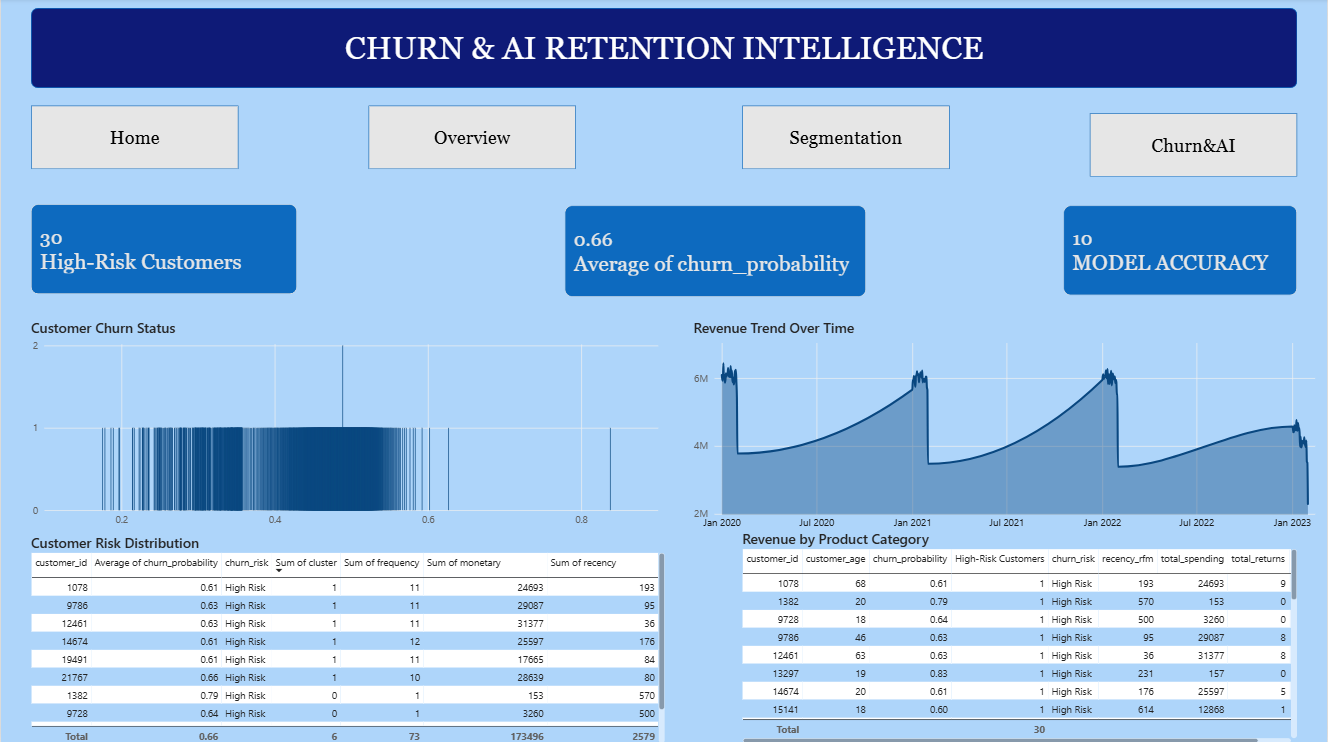

Layout of this report page (visuals, bound fields, positions):
{"tool":"powerbi","page":{"name":"Churn&AI","canvas":[1920,1080],"ordinal":3},"visuals":[{"type":"cardVisual","fields":{"Data":["customer_intelligence.High-Risk Customers"]},"box":[43.4,298.6,385.5,130.3],"z":0},{"type":"cardVisual","fields":{"Data":["Avg(ai_retention_recommendations.churn_probability)"]},"box":[816.2,300.4,436.1,132.1],"z":1000},{"type":"cardVisual","fields":{"Data":["CountNonNull(ai_retention_recommendations.ai_recommendation)"]},"box":[1538.2,300.4,338.4,130.3],"z":3000},{"type":"shape","box":[43.4,14.5,1833.2,115.8],"z":4000},{"type":"shape","box":[43.4,155.6,300.4,92.3],"z":5000},{"type":"shape","box":[1073.1,155.6,300.4,92.3],"z":6000},{"type":"shape","box":[532,155.6,300.4,92.3],"z":7000},{"type":"shape","box":[1576.2,166.5,300.4,92.3],"z":8000},{"type":"clusteredColumnChart","title":"Customer Churn Status","fields":{"Category":["customer_intelligence.churn_probability"],"Y":["CountNonNull(customer_intelligence.customer_id)"]},"box":[43.4,463.3,917.5,305.8],"z":10000},{"type":"stackedAreaChart","title":"Revenue Trend Over Time","fields":{"Category":["customer_shopping_data_clean.purchase_date.Variation.Date Hierarchy.Year","customer_shopping_data_clean.purchase_date.Variation.Date Hierarchy.Day"],"Y":["customer_shopping_data_clean.Total Revenue"]},"box":[1002.6,463.3,917.5,311.3],"z":11000},{"type":"tableEx","title":"Customer Risk Distribution","fields":{"Values":["ai_retention_recommendations.customer_id","Avg(ai_retention_recommendations.churn_probability)","ai_retention_recommendations.churn_risk","Sum(ai_retention_recommendations.cluster)","Sum(ai_retention_recommendations.frequency)","Sum(ai_retention_recommendations.monetary)","Sum(ai_retention_recommendations.recency)"]},"box":[43.4,774.5,917.5,305.8],"z":12000},{"type":"tableEx","title":"Revenue by Product Category","fields":{"Values":["customer_intelligence.customer_id","customer_intelligence.customer_age","customer_intelligence.churn_probability","customer_intelligence.High-Risk Customers","customer_intelligence.churn_risk","customer_intelligence.recency_rfm","customer_intelligence.total_spending","customer_intelligence.total_returns","customer_intelligence.cluster"]},"box":[1073.1,769.1,803.5,311.3],"z":13000}]}

Visuals, with their boxes in screenshot pixels (x1, y1, x2, y2), scaled from the page's 1920x1080 canvas onto the 1328x742 screenshot:
cardVisual - customer_intelligence.High-Risk Customers: [30,205,297,295]
cardVisual - Avg(ai_retention_recommendations.churn_probability): [565,206,866,297]
cardVisual - CountNonNull(ai_retention_recommendations.ai_recommendation): [1064,206,1298,296]
shape: [30,10,1298,90]
shape: [30,107,238,170]
shape: [742,107,950,170]
shape: [368,107,576,170]
shape: [1090,114,1298,178]
"Customer Churn Status" clusteredColumnChart: [30,318,665,528]
"Revenue Trend Over Time" stackedAreaChart: [693,318,1327,532]
"Customer Risk Distribution" tableEx: [30,532,665,741]
"Revenue by Product Category" tableEx: [742,528,1298,741]
